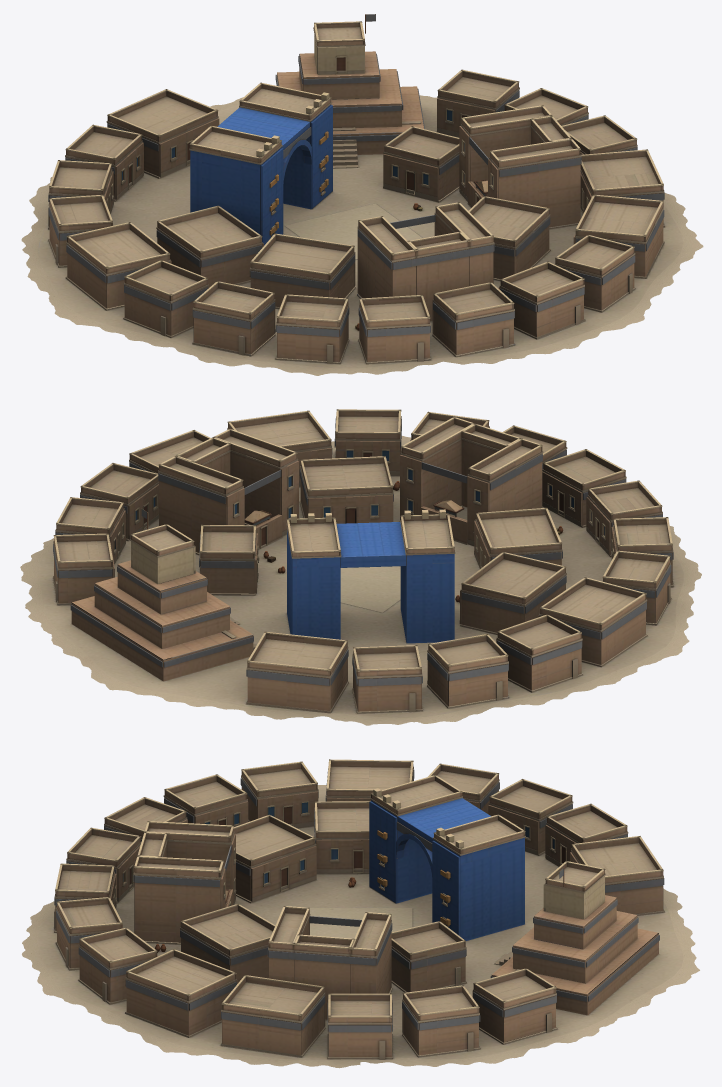
The model's file is bronze-town-big-b-levant.glb.
3 views of the same model, one above another, from view 1: azimuth 30°, elevation 25°; view 2: azimuth 150°, elevation 25°; view 3: azimuth 270°, elevation 25° (orthographic).
Parts seen in each view (by area): view 1: LOD0; view 2: LOD0; view 3: LOD0.
Boxes of the visible parts, <box> form: LOD0: <box>21,14,703,375</box>; LOD0: <box>20,409,701,725</box>; LOD0: <box>22,759,699,1068</box>.
Size of what is drawn, in the model's own units: 7.95 by 1.52 by 8.01.
3 materials, 3 textured.
